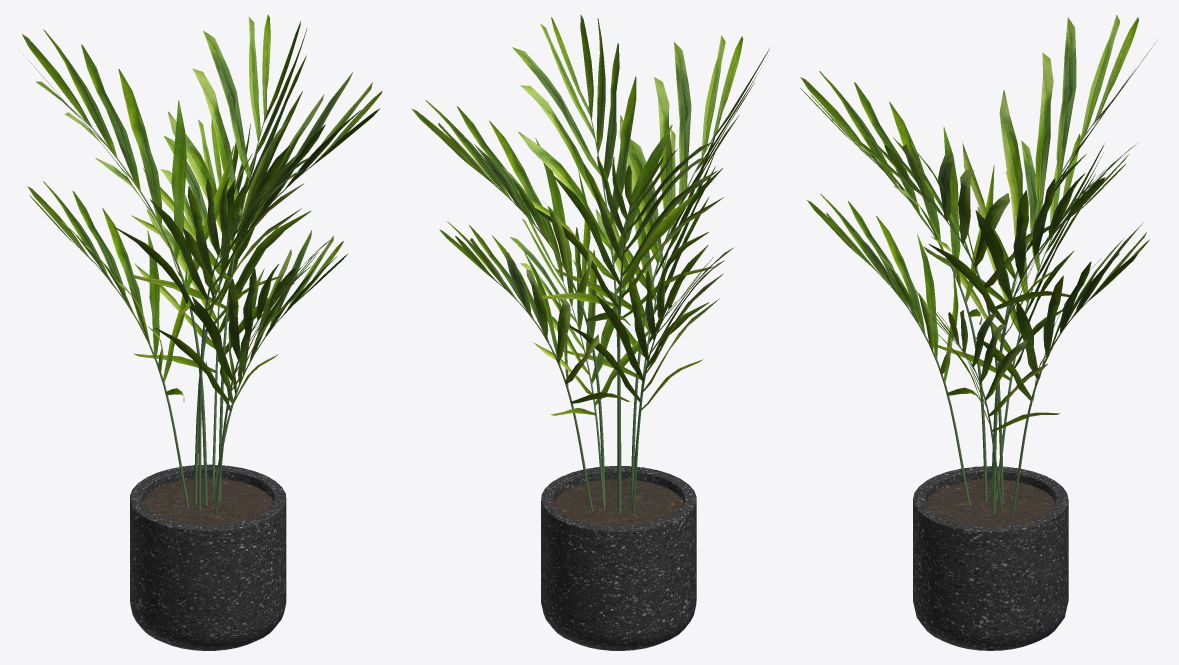
File: plant7.glb
3 renders of one model, left to right at view 1: azimuth 30°, elevation 25°; view 2: azimuth 150°, elevation 25°; view 3: azimuth 270°, elevation 25°, orthographic.
Parts seen in each view (by area): view 1: Palm_03; view 2: Palm_03; view 3: Palm_03.
Part boxes in pixels (left/top/right/bottom): Palm_03: left=22, top=14, right=382, bottom=650; Palm_03: left=411, top=14, right=770, bottom=650; Palm_03: left=800, top=14, right=1155, bottom=650.
Bounding box in the file's own units: 0.4208 × 0.7884 × 0.4703.
4 materials, 3 textured.
